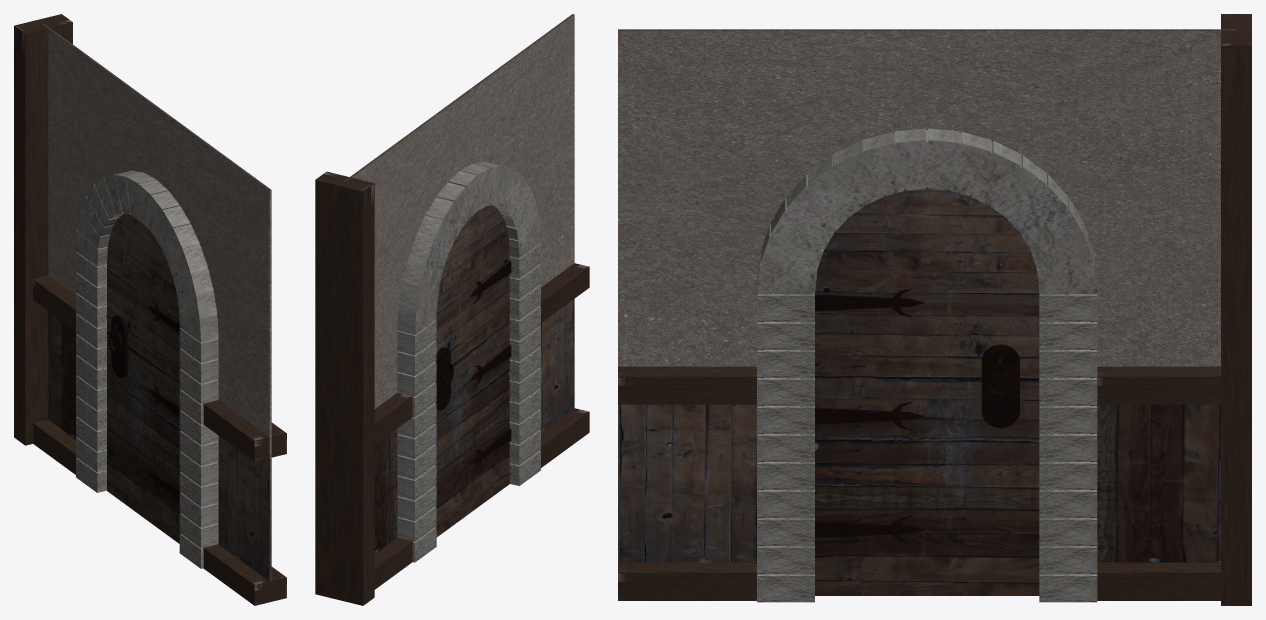
File: OutdoorArchitecture_BasicWall02_Door02_RightEdge_BShortt.fbx
3 renders of one model, left to right at view 1: azimuth 30°, elevation 25°; view 2: azimuth 150°, elevation 25°; view 3: azimuth 270°, elevation 25°, orthographic. The views are drawn at different scales.
Visible parts, largest first — view 1: OutdoorArchitecture_BasicWall02_Door02_RightEdge_BShortt; view 2: OutdoorArchitecture_BasicWall02_Door02_RightEdge_BShortt; view 3: OutdoorArchitecture_BasicWall02_Door02_RightEdge_BShortt.
Part boxes in pixels (left/top/right/bottom): OutdoorArchitecture_BasicWall02_Door02_RightEdge_BShortt: left=14, top=14, right=286, bottom=605; OutdoorArchitecture_BasicWall02_Door02_RightEdge_BShortt: left=315, top=14, right=589, bottom=605; OutdoorArchitecture_BasicWall02_Door02_RightEdge_BShortt: left=618, top=14, right=1251, bottom=605.
Size of the model in its own units: 36.37 by 300 by 308.
